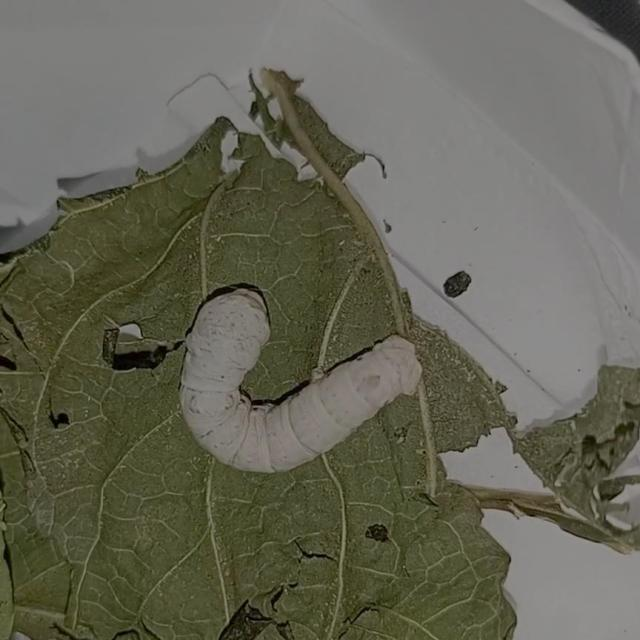Healthy: (140, 236, 444, 501)
